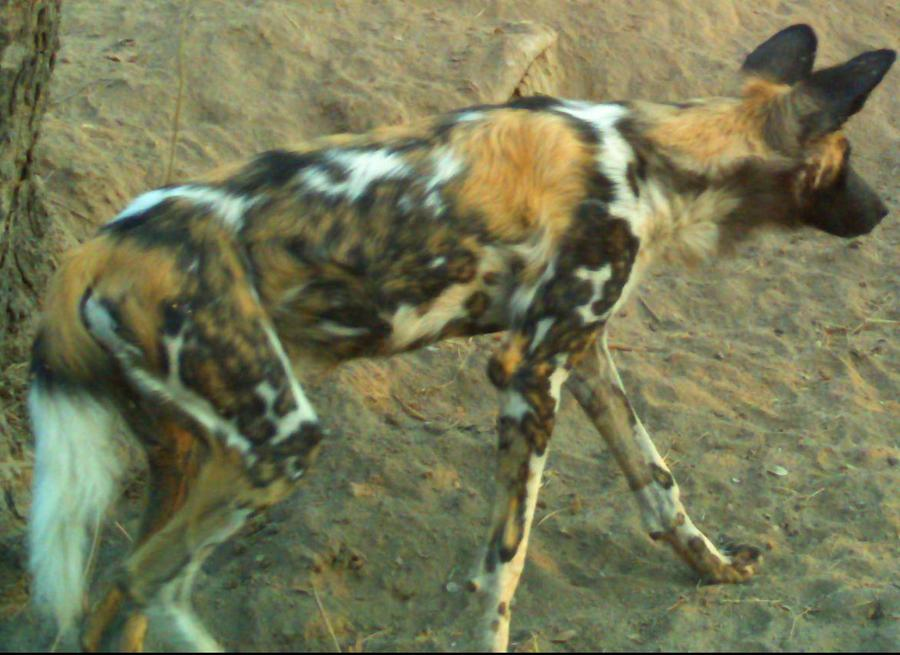wilddog: (155, 31, 877, 530)
